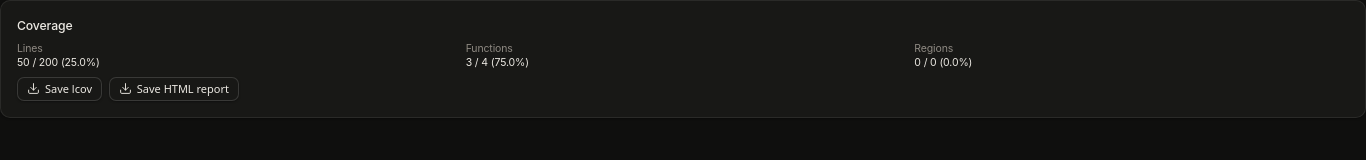
Test: shows coverage percentages and saves both line report formats
The image size is (1366, 160).
What coordinates should you click on to do the following:
click the button "Save lcov"
I would click on:
 (59, 89)
Its box is [17,76,102,101].
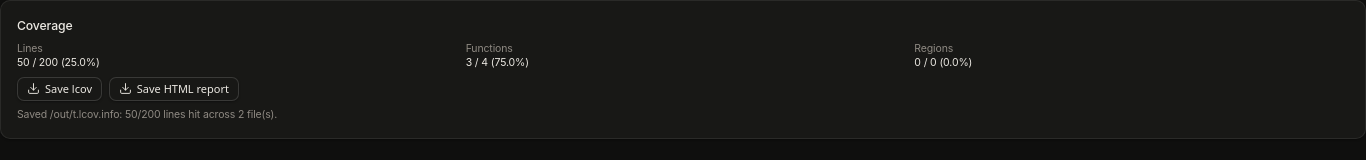
Now the text "Saved /out/t.lcov.info: 50/200 lines hit across 2 file(s)." is shown, box [17,108,277,121]
What coordinates should you click on to do the following:
click the button "Save HTML report"
I would click on:
 (174, 89)
Its box is [109,76,239,101].
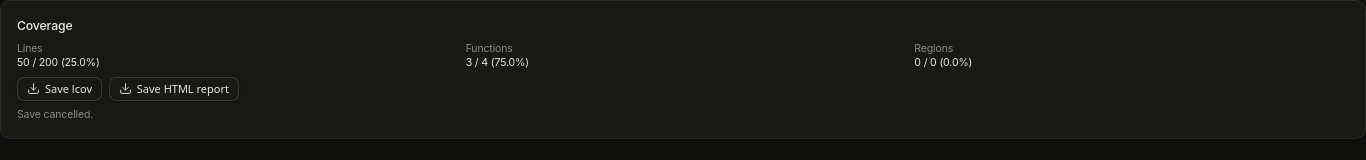
Now the text "Save cancelled." is shown, box [17,108,93,121]
